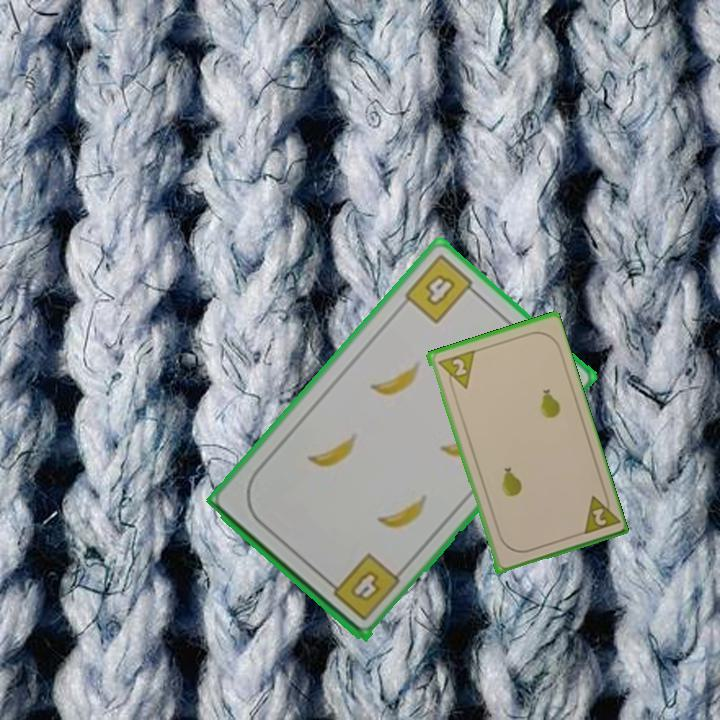2p: (434, 347, 477, 395), (588, 504, 609, 529)
4b: (400, 250, 483, 327), (322, 549, 403, 624)
